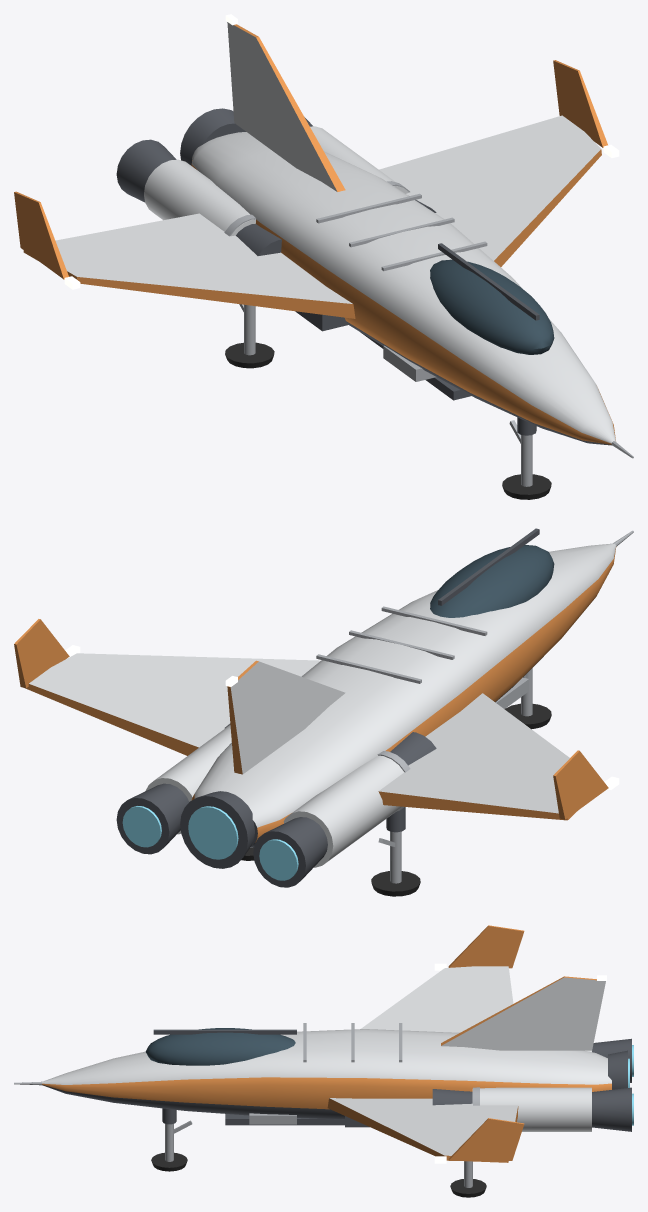
File: ship_explorer.fbx
3 views of the same model, one above another, from view 1: azimuth 30°, elevation 25°; view 2: azimuth 150°, elevation 25°; view 3: azimuth 270°, elevation 25° (orthographic). The views are drawn at different scales.
Visible parts, largest first — view 1: Body, Gear; view 2: Body, Gear; view 3: Body, Gear.
Boxes of the visible parts, <box> form: Body: <box>14,14,633,458</box>; Gear: <box>225,304,551,499</box>; Body: <box>14,528,633,887</box>; Gear: <box>241,668,551,896</box>; Body: <box>14,925,633,1163</box>; Gear: <box>151,1108,486,1197</box>.
Bounding box in the file's own units: 11.6 × 5.21 × 15.55.
